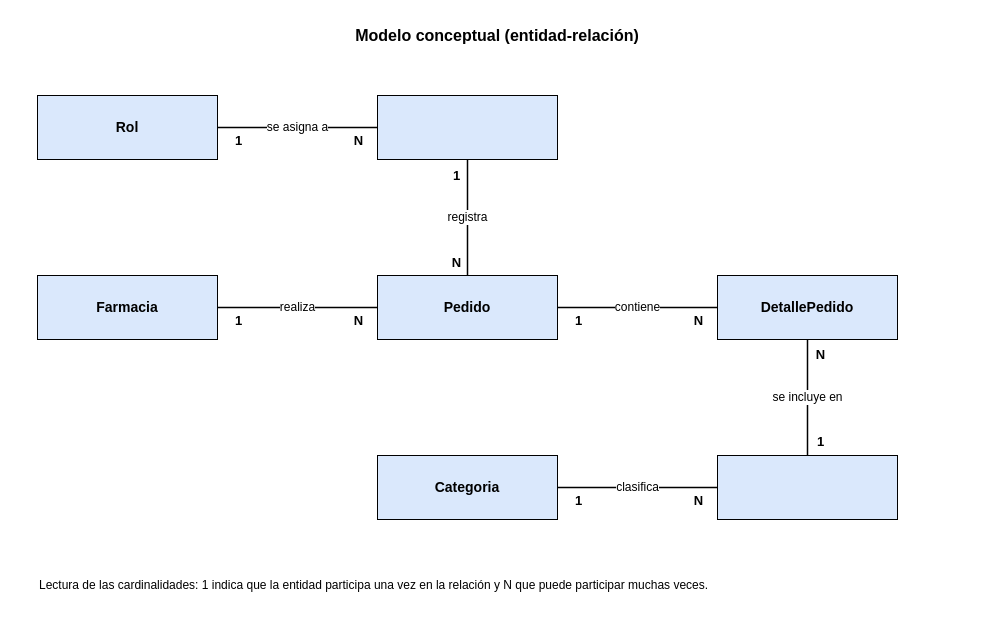
The diagram is 994 pixels wide and 622 high, and some of its shapes have lost their labels. Each missing label, with the centre of its shape:
Medicamento: the point at 807,487
Usuario: the point at 467,127
